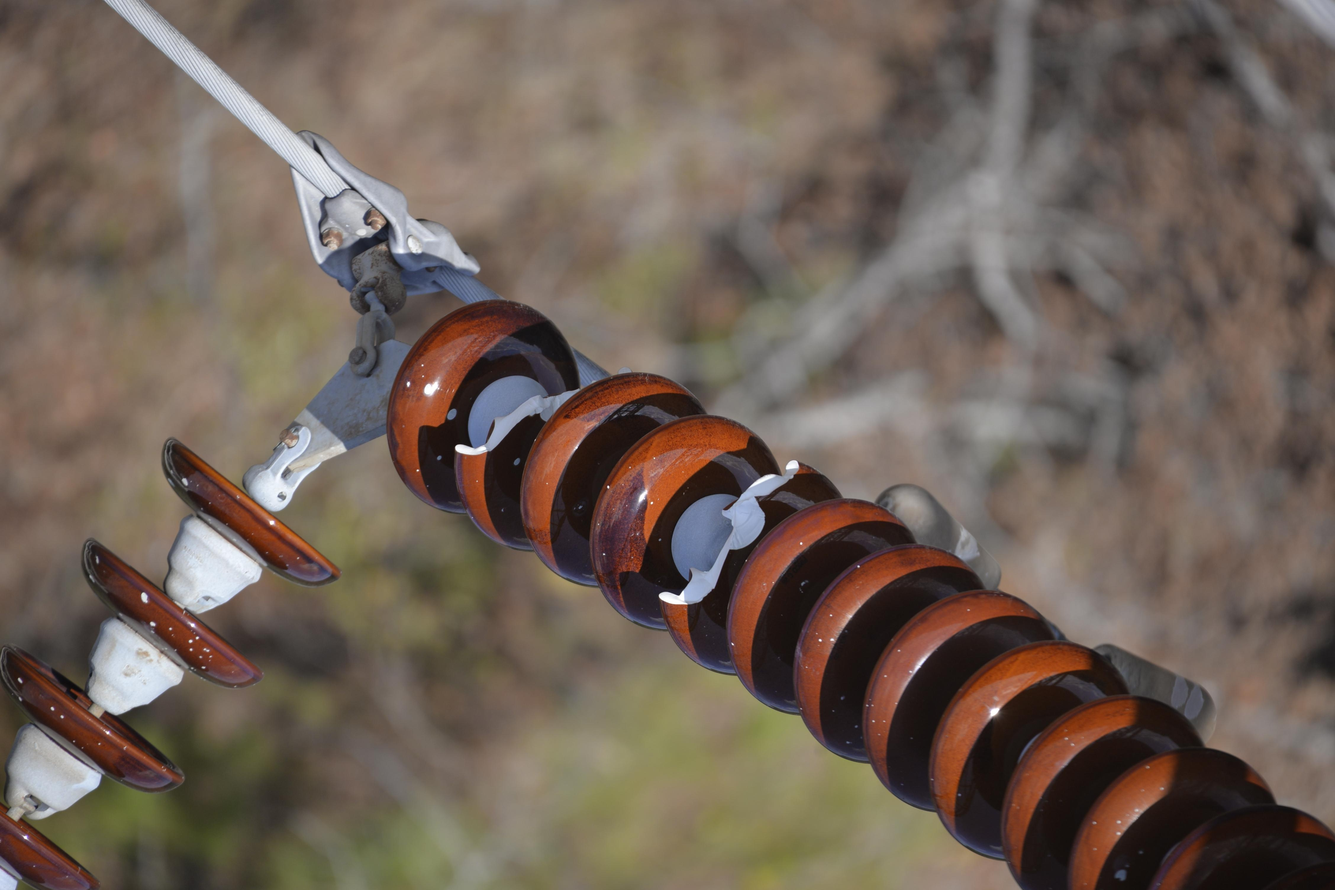damaged: (662, 456, 807, 612), (458, 366, 620, 459)
hammer: (878, 483, 1220, 734)
insulator: (391, 300, 1328, 887), (2, 434, 342, 885)
